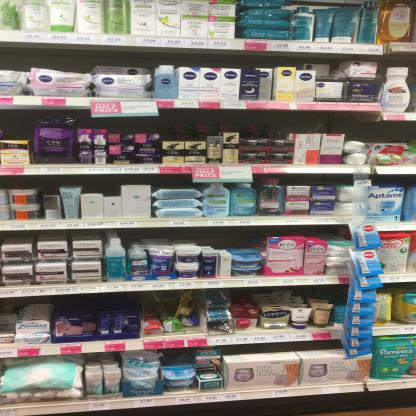Void: (244, 111, 287, 138), (352, 120, 408, 140), (168, 112, 203, 142), (294, 112, 340, 131), (2, 112, 32, 139), (85, 177, 123, 193), (228, 230, 258, 248), (40, 178, 61, 195)
